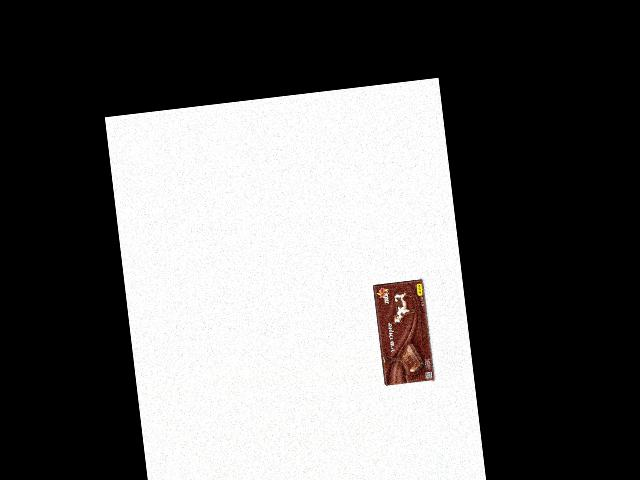chocolate: (371, 276, 435, 384)
